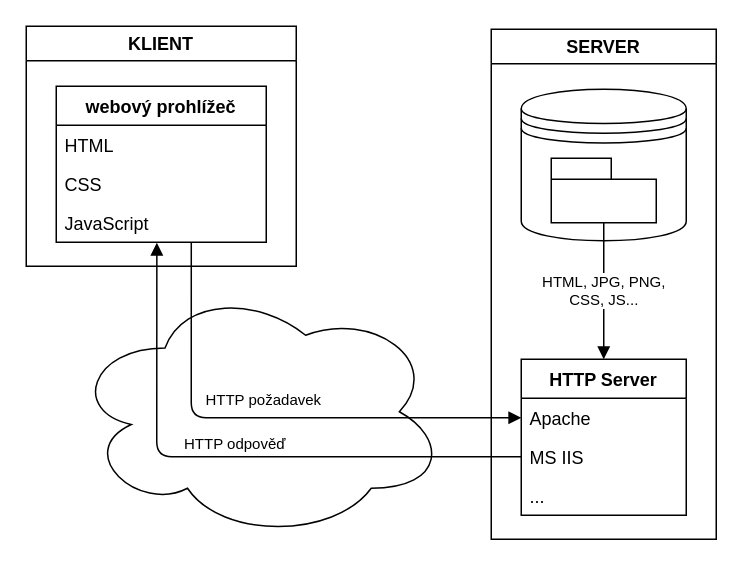
Image size: 743x566. Some labels were removed from this diagram. Each missing label, with the centre of its shape:
"htdocs" belongs at (603,190).
"internet" belongs at (258,411).
